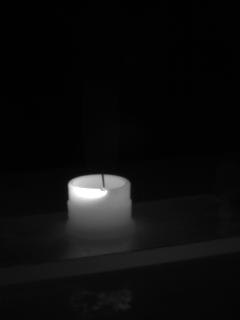tip_wire_left: (87, 166, 105, 190)
tip_wire_right: (103, 164, 117, 190)
